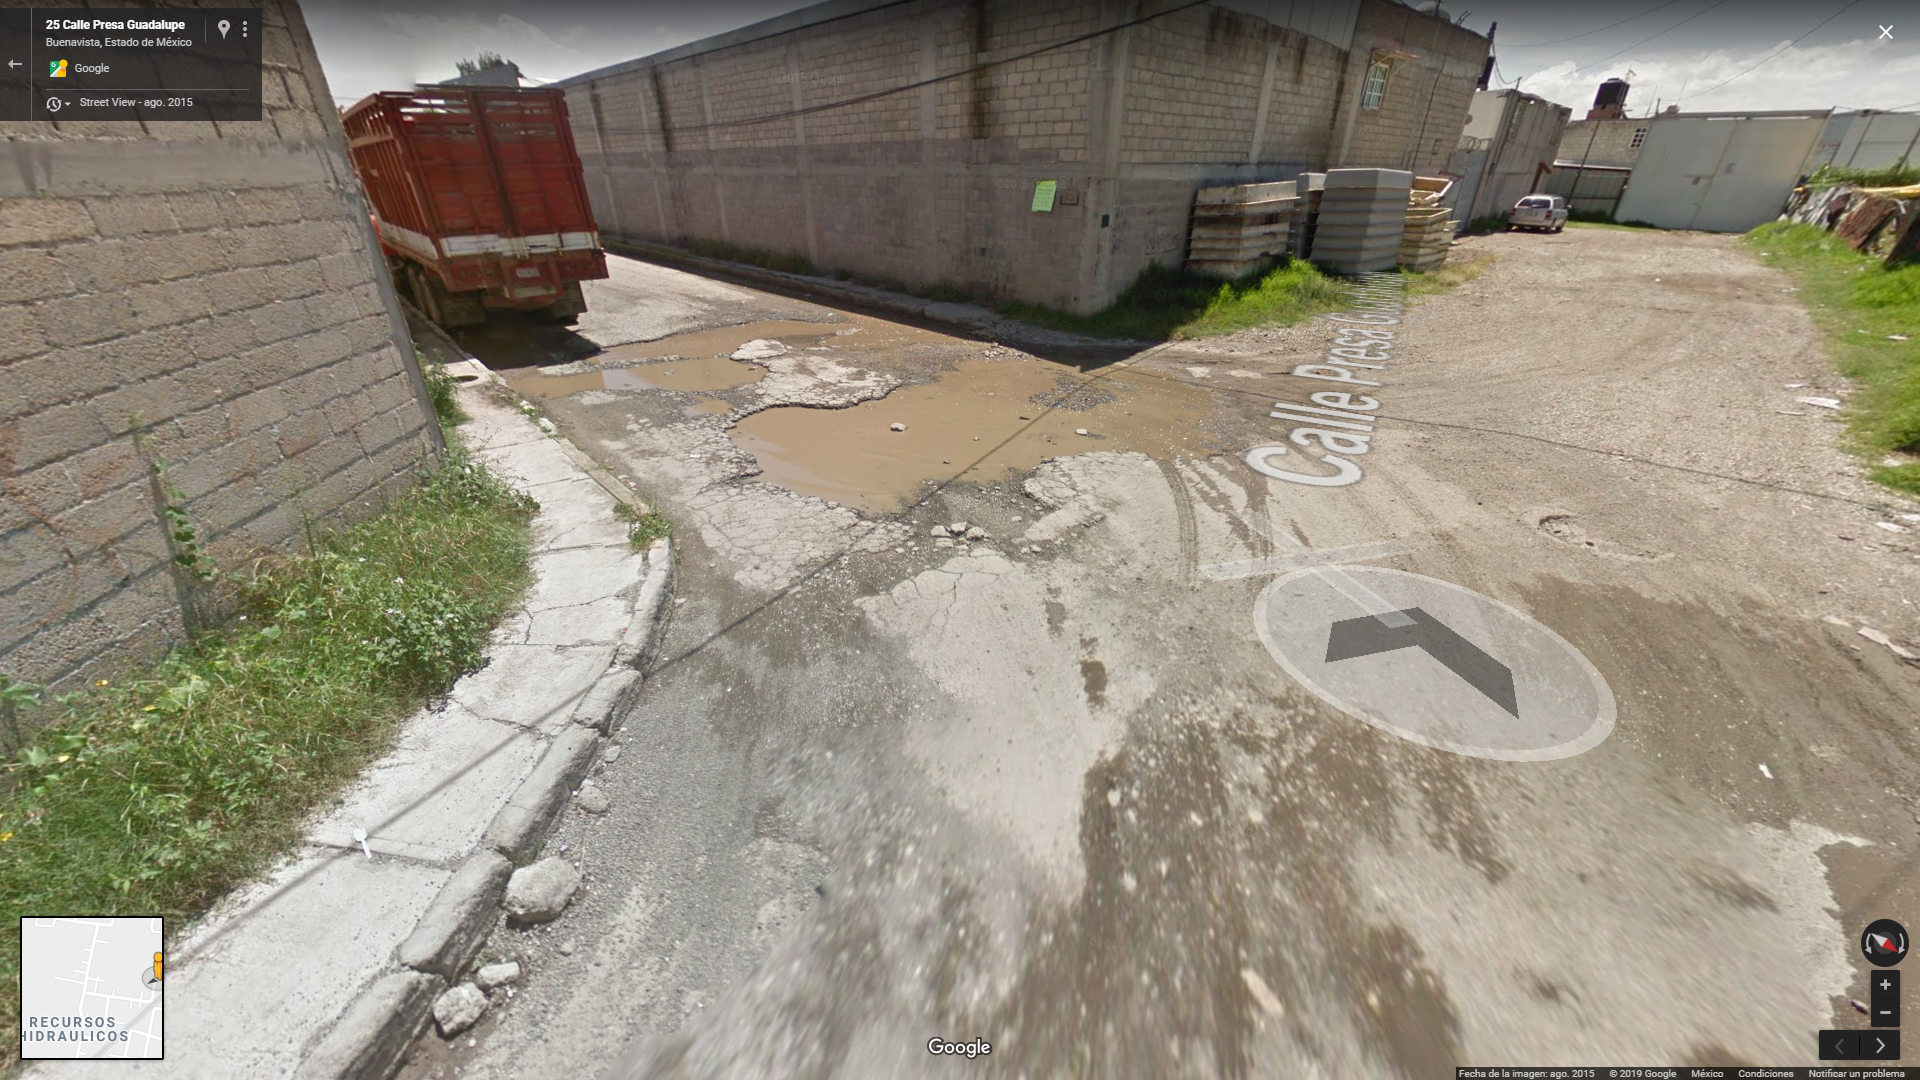pothole: (711, 400, 982, 547), (550, 311, 789, 400)
